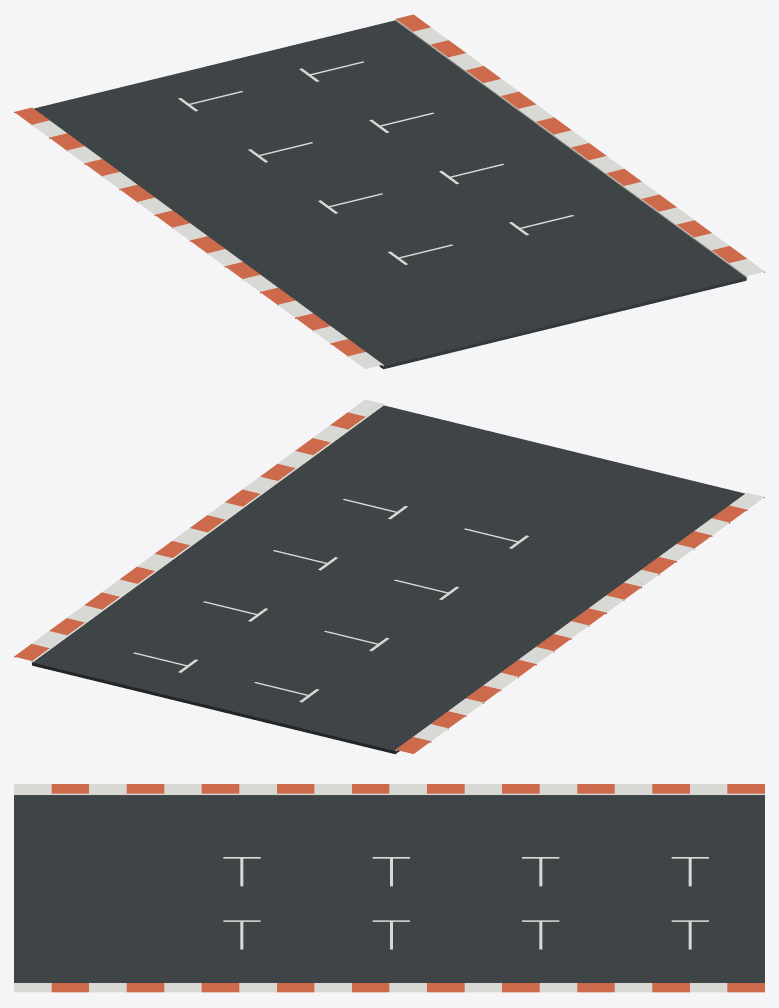
The model's file is track_startfinish.glb.
3 renders of one model, top to bottom at view 1: azimuth 30°, elevation 25°; view 2: azimuth 150°, elevation 25°; view 3: azimuth 270°, elevation 25°, orthographic. The views are drawn at different scales.
Parts seen in each view (by area): view 1: start-finish-straight; view 2: start-finish-straight; view 3: start-finish-straight.
Part boxes in pixels (<box>): start-finish-straight: <box>14,14,764,369</box>; start-finish-straight: <box>14,399,764,754</box>; start-finish-straight: <box>14,784,764,992</box>.
Bounding box in the file's own units: 13.2 × 0.145 × 20.1.
